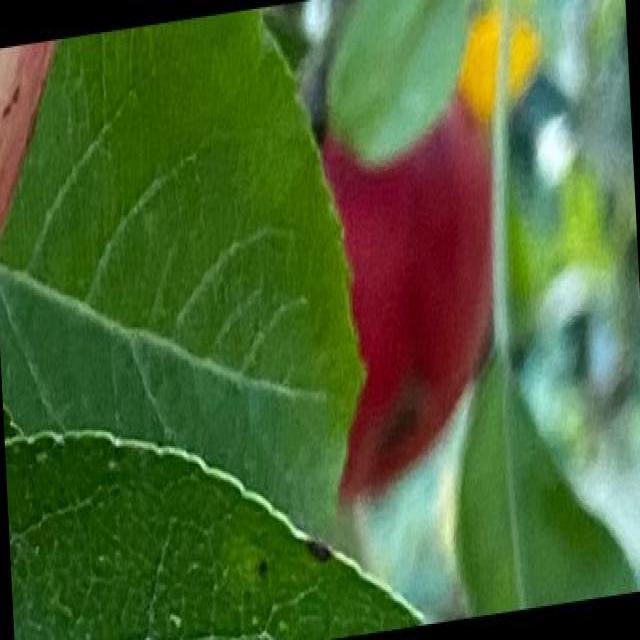Apple: (316, 89, 504, 502)
